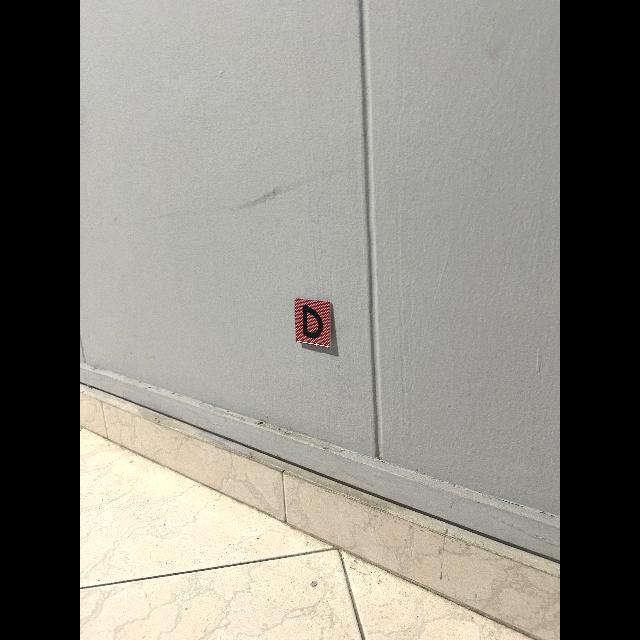D: (303, 305, 323, 338)
